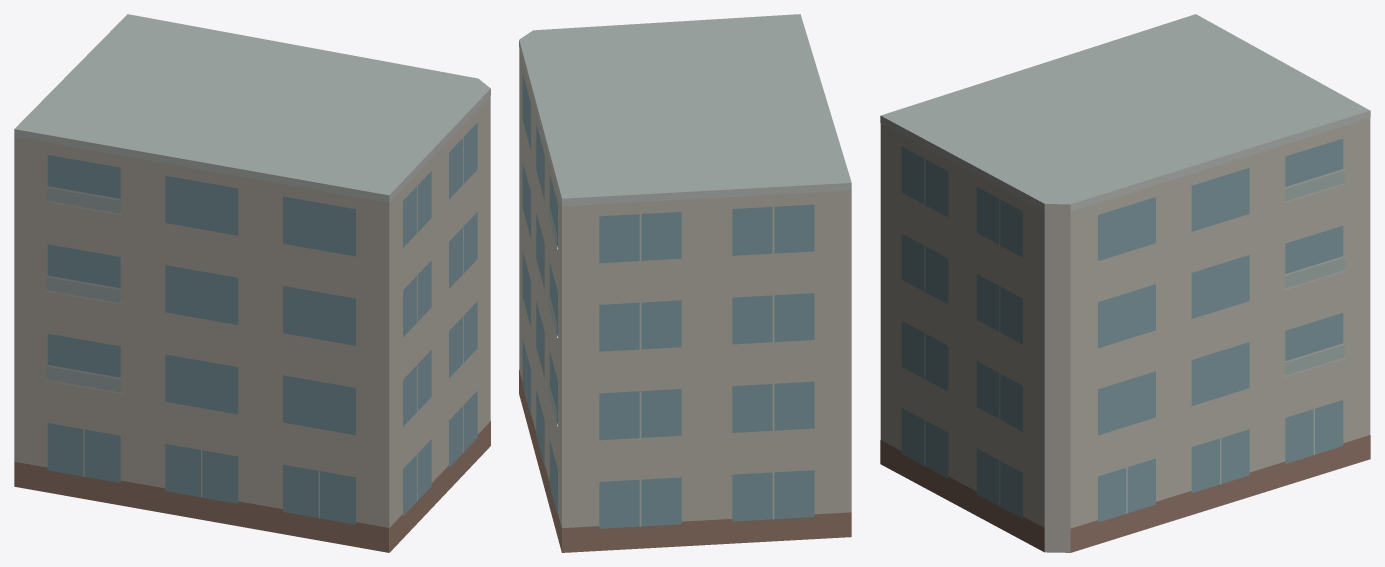
Rendered from survey-upis-32984965.glb.
The picture shows the model from 3 angles, left to right: view 1: azimuth 30°, elevation 25°; view 2: azimuth 150°, elevation 25°; view 3: azimuth 270°, elevation 25°; orthographic projection. The views are drawn at different scales.
Parts seen in each view (by area): view 1: survey-upis-32984965.tmp; view 2: survey-upis-32984965.tmp; view 3: survey-upis-32984965.tmp.
Part boxes in pixels (x1,y1,x2,y2): survey-upis-32984965.tmp: (14, 14, 490, 552); survey-upis-32984965.tmp: (519, 14, 851, 552); survey-upis-32984965.tmp: (880, 14, 1370, 552).
Size of the model in its own units: 13.48 by 11.5 by 14.66.
